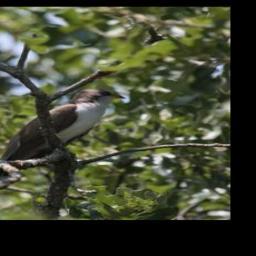Cuckoo: (0, 88, 128, 204)
